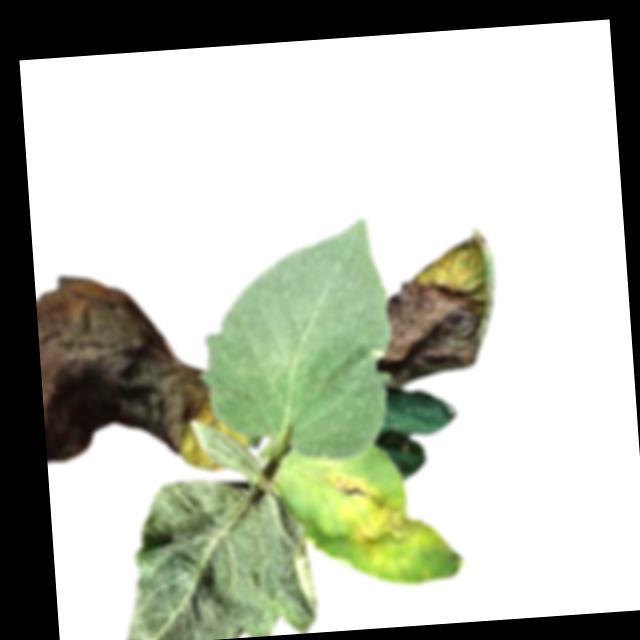Late_blight: (35, 264, 215, 467), (369, 225, 504, 391), (324, 467, 427, 560)
